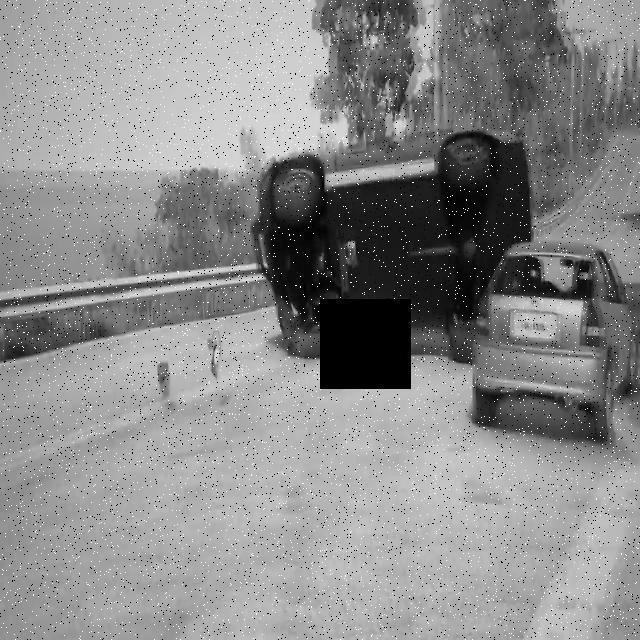accident: (248, 121, 550, 372)
vehicle: (477, 239, 640, 441)
